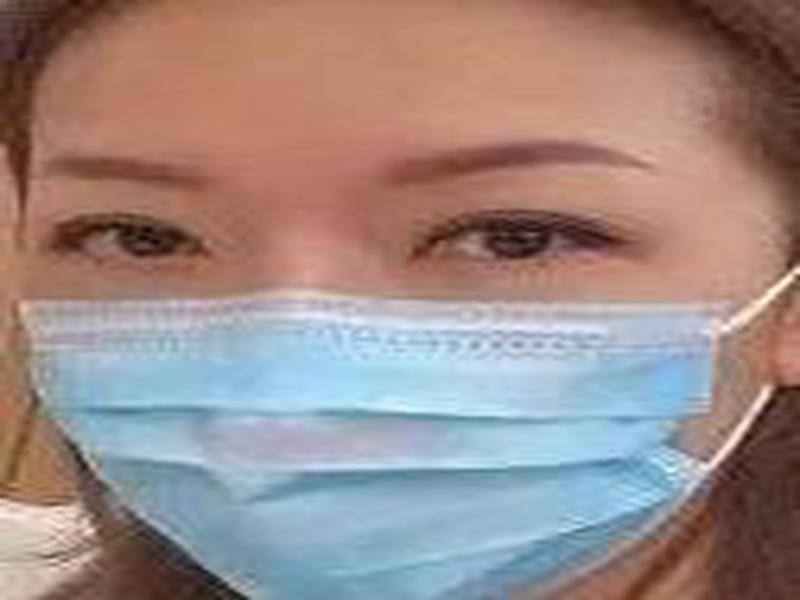with_mask: (15, 2, 795, 600)
